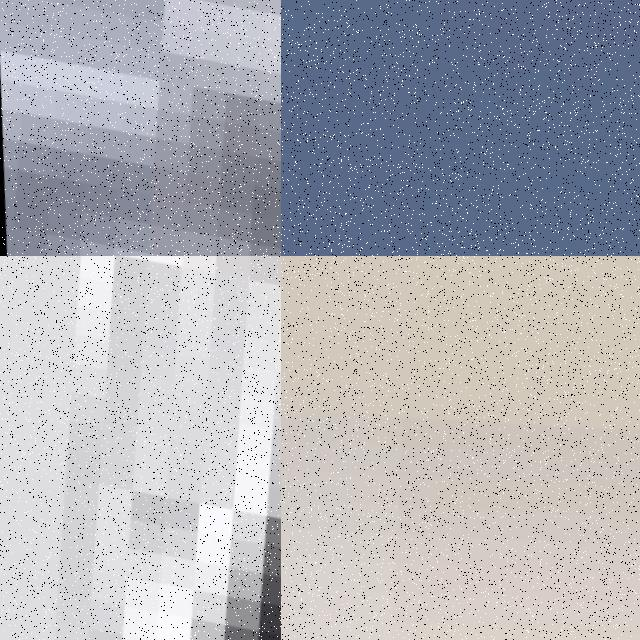drone: (0, 256, 281, 640), (0, 0, 281, 256)
